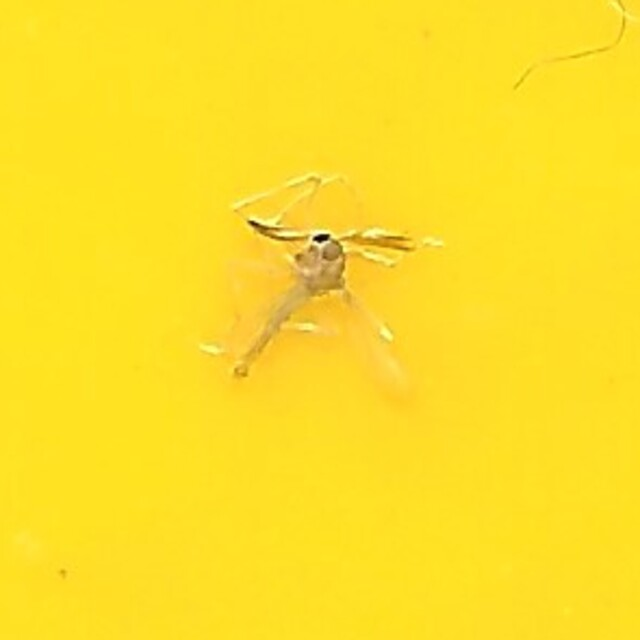Nematocera: (217, 223, 423, 417)
